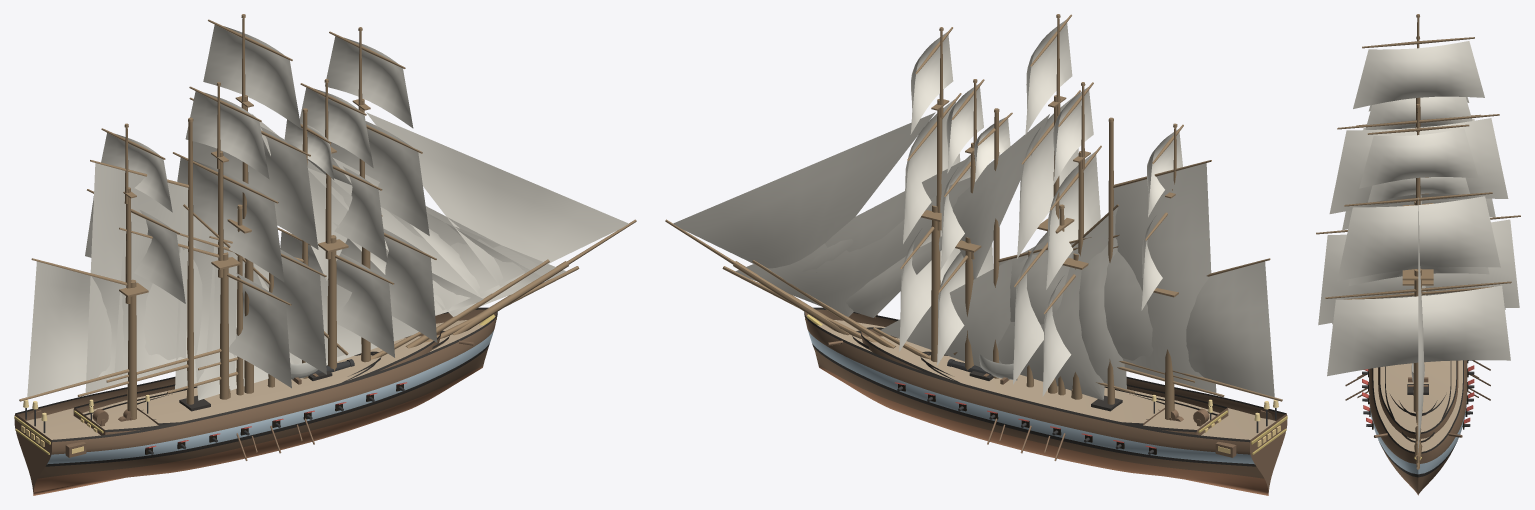
File: barcos.glb
The picture shows the model from 3 angles, left to right: view 1: azimuth 30°, elevation 25°; view 2: azimuth 150°, elevation 25°; view 3: azimuth 270°, elevation 25°; orthographic projection. The views are drawn at different scales.
Parts seen in each view (by area): view 1: fragata_palo_2_m, bergantin_palo_0_m, fragata_popa_m, fragata_palo_1_m, bergantin_palo_1_m, fragata_palo_0_m, fragata_proa_m, goleta_palo_0_m, canonera_palo_0_m, goleta_palo_1_m, falucho_palo_0_m, bergantin_proa_m (+1 smaller); view 2: fragata_palo_2_m, fragata_popa_m, fragata_proa_m, goleta_palo_0_m, fragata_palo_1_m, fragata_palo_0_m, bergantin_palo_0_m, bergantin_palo_1_m, goleta_palo_1_m, canonera_palo_0_m, falucho_palo_0_m, bergantin_proa_m (+2 smaller); view 3: fragata_palo_2_m, fragata_palo_1_m, fragata_proa_m, bergantin_palo_0_m, bergantin_palo_1_m, bergantin_proa_m, fragata_popa_m, goleta_proa_m, canonera_proa_m.
Boxes of the visible parts, left/top/right/bottom form: fragata_palo_2_m: left=325, top=27, right=628, bottom=362; bergantin_palo_0_m: left=106, top=82, right=291, bottom=399; fragata_popa_m: left=14, top=377, right=284, bottom=495; fragata_palo_1_m: left=189, top=14, right=352, bottom=393; bergantin_palo_1_m: left=277, top=79, right=538, bottom=370; fragata_palo_0_m: left=19, top=123, right=185, bottom=419; fragata_proa_m: left=254, top=219, right=636, bottom=452; goleta_palo_0_m: left=77, top=117, right=194, bottom=404; canonera_palo_0_m: left=167, top=204, right=418, bottom=395; goleta_palo_1_m: left=198, top=108, right=566, bottom=378; falucho_palo_0_m: left=183, top=204, right=348, bottom=400; bergantin_proa_m: left=342, top=259, right=549, bottom=382; fragata_palo_2_m: left=673, top=27, right=961, bottom=362; fragata_popa_m: left=1017, top=376, right=1287, bottom=495; fragata_proa_m: left=665, top=219, right=1042, bottom=452; goleta_palo_0_m: left=1107, top=117, right=1224, bottom=404; fragata_palo_1_m: left=952, top=14, right=1080, bottom=393; fragata_palo_0_m: left=1141, top=123, right=1282, bottom=419; bergantin_palo_0_m: left=1042, top=82, right=1194, bottom=399; bergantin_palo_1_m: left=825, top=79, right=993, bottom=371; goleta_palo_1_m: left=735, top=108, right=1091, bottom=378; canonera_palo_0_m: left=880, top=204, right=1134, bottom=395; falucho_palo_0_m: left=953, top=204, right=1118, bottom=400; bergantin_proa_m: left=752, top=260, right=959, bottom=382; fragata_palo_2_m: left=1325, top=104, right=1511, bottom=452; fragata_palo_1_m: left=1316, top=14, right=1520, bottom=325; fragata_proa_m: left=1362, top=360, right=1474, bottom=495; bergantin_palo_0_m: left=1332, top=96, right=1505, bottom=324; bergantin_palo_1_m: left=1344, top=131, right=1493, bottom=365; bergantin_proa_m: left=1378, top=362, right=1458, bottom=443; fragata_popa_m: left=1362, top=360, right=1474, bottom=377; goleta_proa_m: left=1385, top=366, right=1451, bottom=469; canonera_proa_m: left=1345, top=384, right=1490, bottom=425.
Size of the model in its own units: 5.05 by 3.42 by 1.59.
